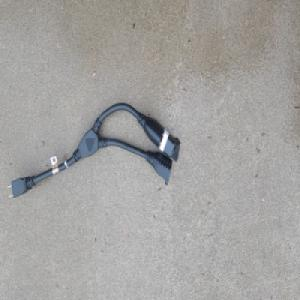Wire: (6, 99, 181, 200)
